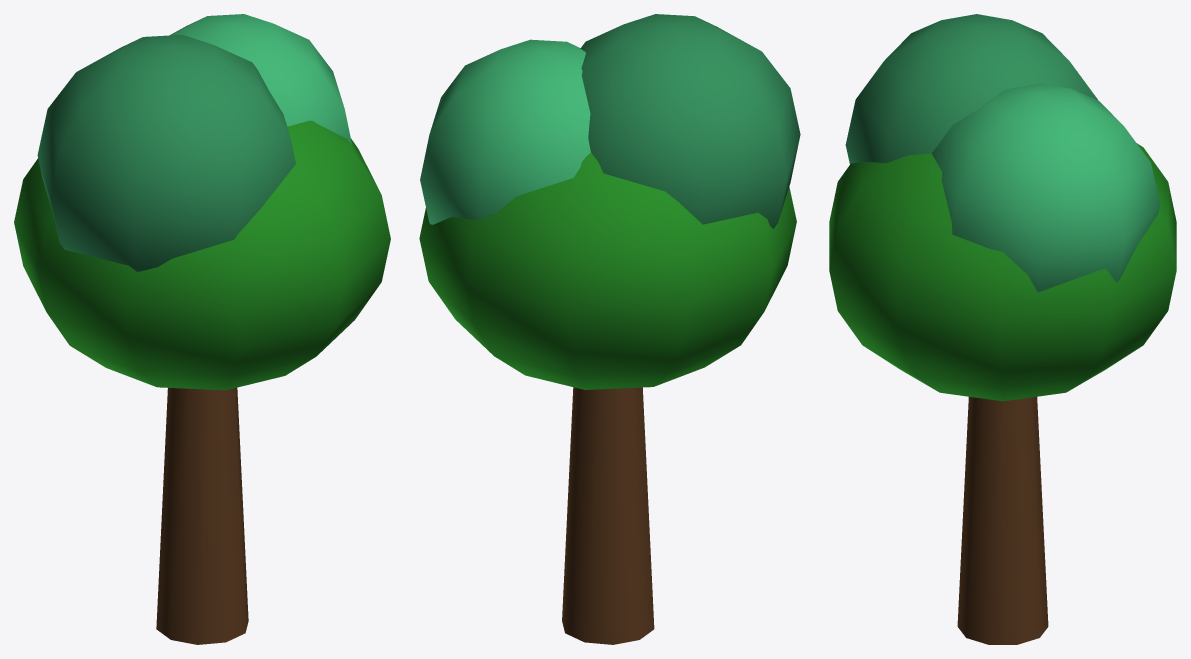
Rendered from canal_tree.glb.
3 renders of one model, left to right at view 1: azimuth 30°, elevation 25°; view 2: azimuth 150°, elevation 25°; view 3: azimuth 270°, elevation 25°, orthographic. The views are drawn at different scales.
Parts seen in each view (by area): view 1: CanalTree; view 2: CanalTree; view 3: CanalTree.
Boxes of the visible parts, box(x1,y1,x2,y2) form: CanalTree: box(14, 14, 390, 644); CanalTree: box(419, 14, 800, 644); CanalTree: box(829, 14, 1176, 644).
Size of the model in its own units: 4.19 by 7.3 by 3.98.
